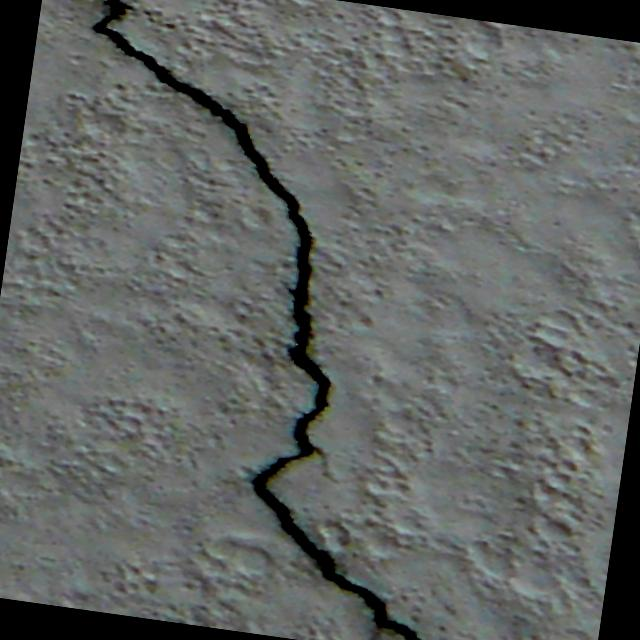crack: (205, 186, 508, 640), (63, 0, 319, 189)
